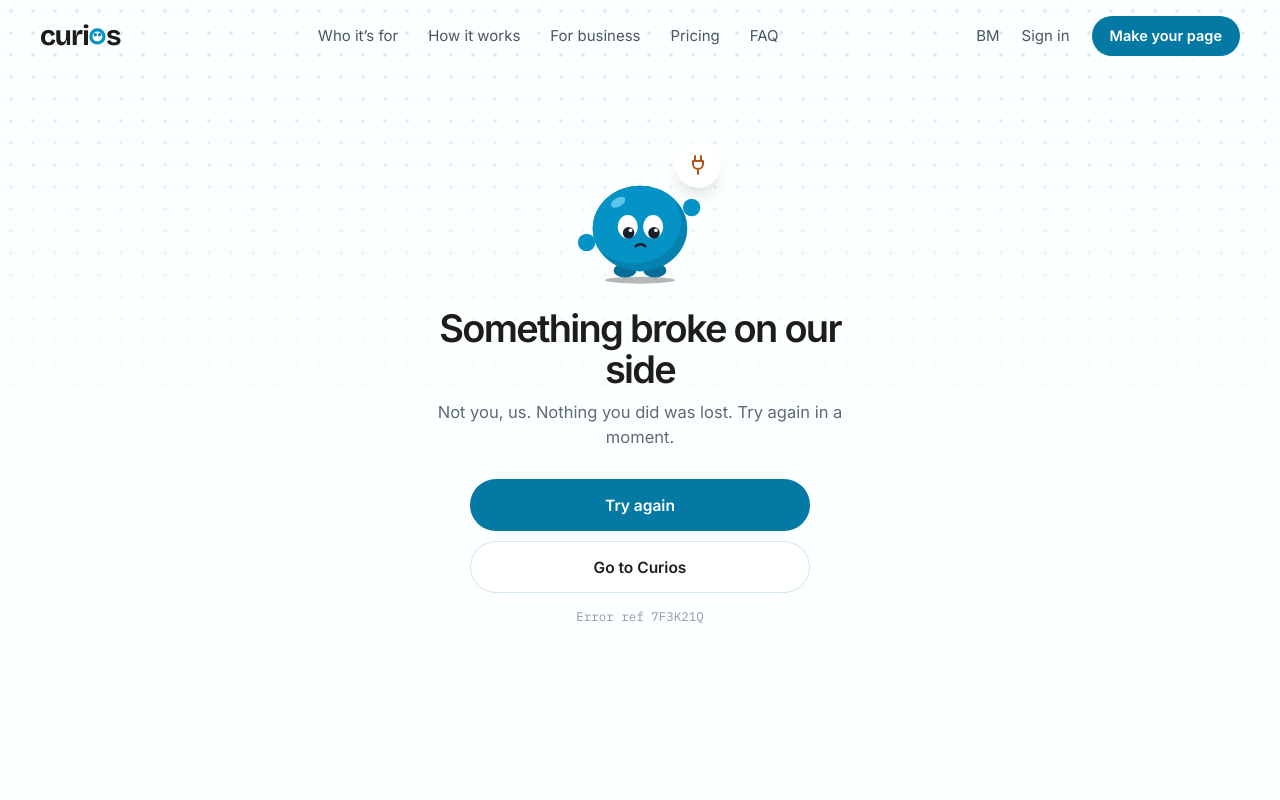
Scenario: ErrorScreen › owns the fault, retries, and gives the ref to quote
Expected: the heading "Something broke on our side" is shown, [434,308,846,390]
Click the button "Try again".
click(640, 505)  # box [470,479,810,531]
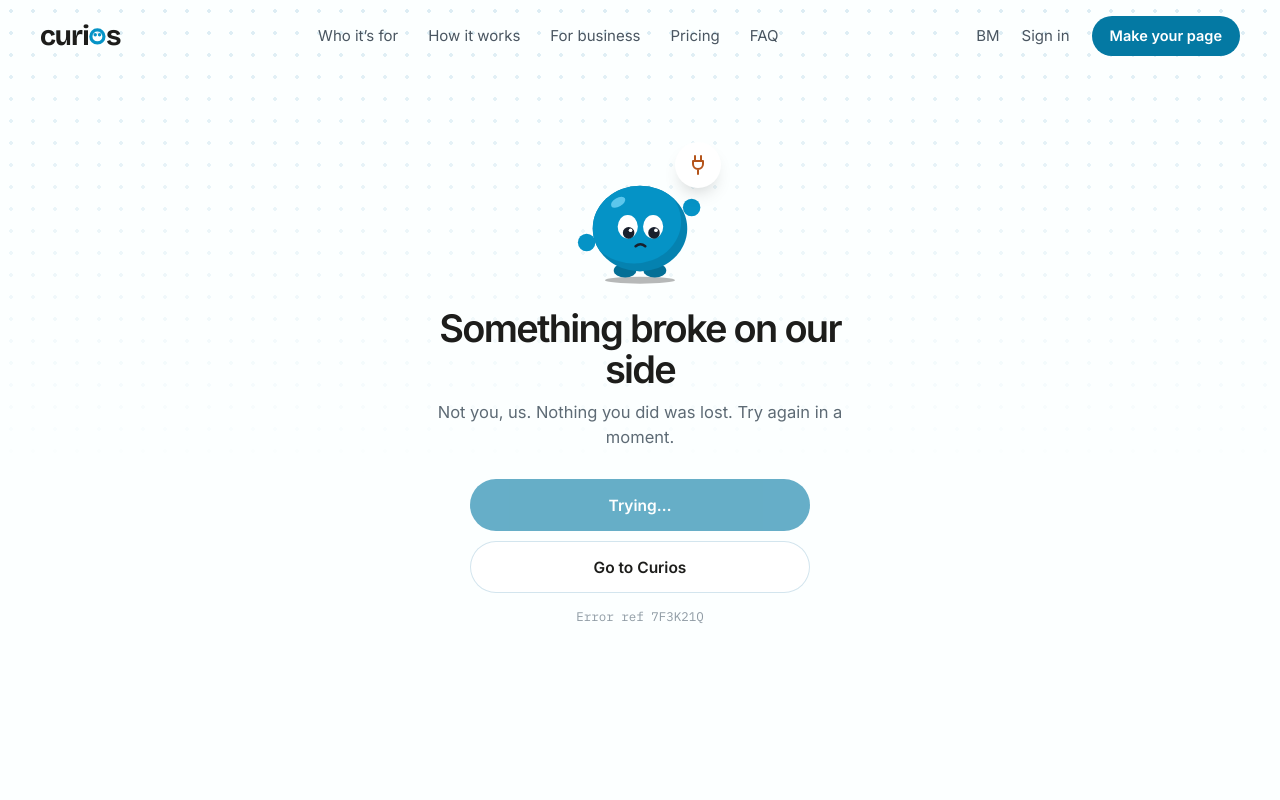
Result: the button "Trying…" is disabled at [470,479,810,531]
